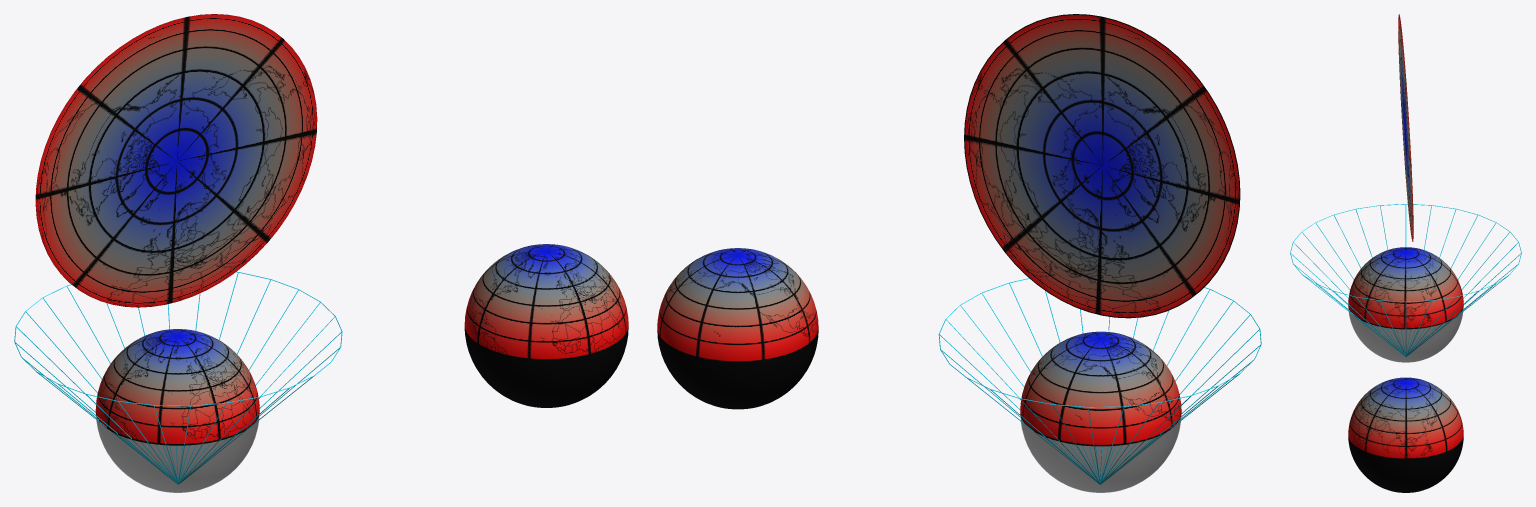
File: stereographic projection.FBX
3 renders of one model, left to right at view 1: azimuth 30°, elevation 25°; view 2: azimuth 150°, elevation 25°; view 3: azimuth 270°, elevation 25°, orthographic. The views are drawn at different scales.
Parts seen in each view (by area): view 1: Stereographic_Projection, Stereographic_Sphere001, Stereographic_Sphere_Half, Orthographic_Sphere003, Stereographic Projection Grid; view 2: Stereographic_Projection, Stereographic_Sphere001, Stereographic_Sphere_Half, Orthographic_Sphere003, Stereographic Projection Grid; view 3: Stereographic_Sphere001, Stereographic_Sphere_Half, Orthographic_Sphere003, Stereographic Projection Grid, Stereographic_Projection.
Part boxes in pixels (<box>): Stereographic_Projection: <box>35,14,317,307</box>; Stereographic_Sphere001: <box>464,244,628,407</box>; Stereographic_Sphere_Half: <box>95,329,259,445</box>; Orthographic_Sphere003: <box>95,413,259,492</box>; Stereographic Projection Grid: <box>14,271,342,484</box>; Stereographic_Projection: <box>964,14,1240,318</box>; Stereographic_Sphere001: <box>657,248,818,409</box>; Stereographic_Sphere_Half: <box>1020,331,1181,446</box>; Orthographic_Sphere003: <box>1020,415,1181,492</box>; Stereographic Projection Grid: <box>938,278,1261,484</box>; Stereographic_Sphere001: <box>1348,377,1463,492</box>; Stereographic_Sphere_Half: <box>1348,247,1463,329</box>; Orthographic_Sphere003: <box>1348,308,1463,362</box>; Stereographic Projection Grid: <box>1290,204,1521,356</box>; Stereographic_Projection: <box>1398,14,1413,241</box>.
Size of the model in its own units: 164 by 128 by 80.21.
Materials: 3 (1 with a texture image).
